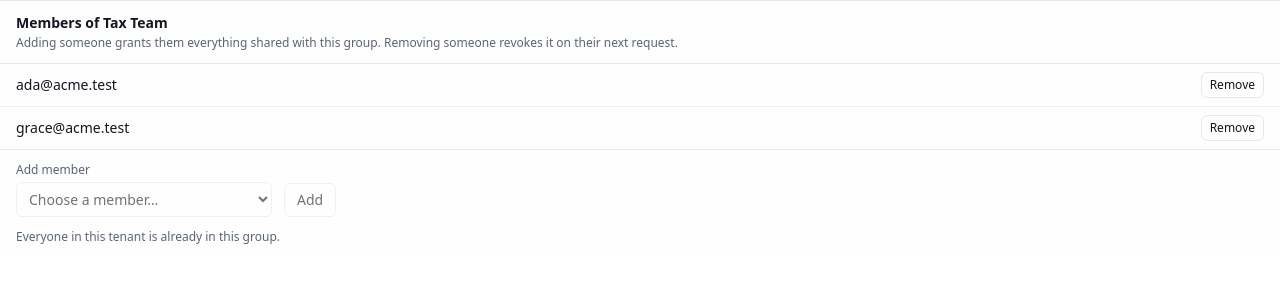
Test: GroupMembersSection › puts a failed removal on the row it belongs to, and only that row
Expected: the text "ada@acme.test" is shown, [16,75,117,95]
Step 1. Click the button with aria-label "remove ada@acme.test" → (1232, 85), box [1201,72,1264,98]
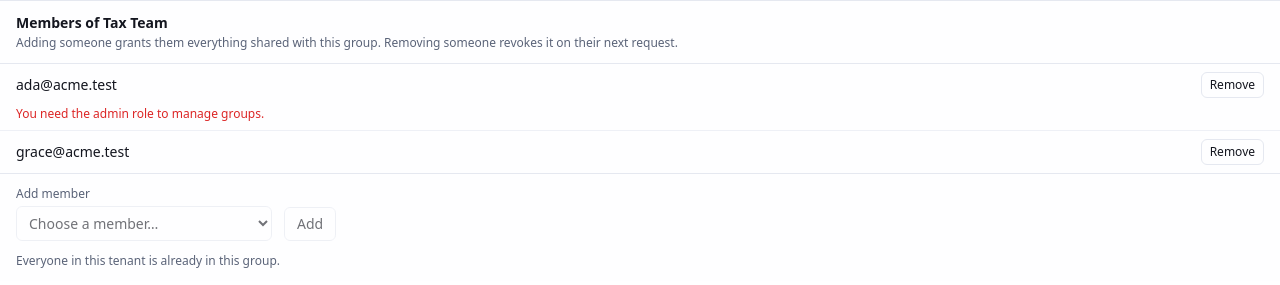
Now the text "You need the admin role to manage groups." is shown, box [16,105,264,122]
